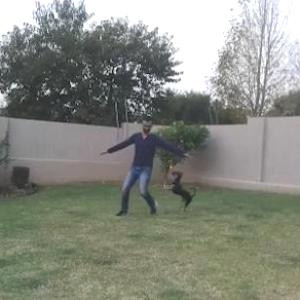land: (106, 116, 199, 226)
